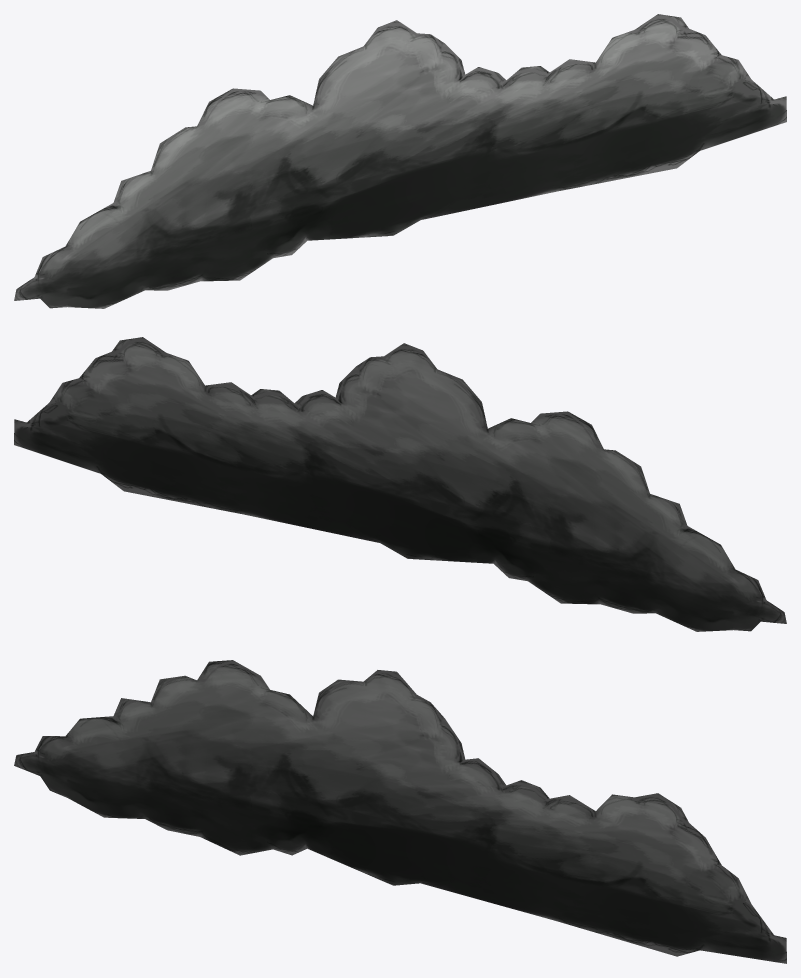
Rendered from Depression_cloud1.fbx.
The picture shows the model from 3 angles, top to bottom: view 1: azimuth 30°, elevation 25°; view 2: azimuth 150°, elevation 25°; view 3: azimuth 330°, elevation 25°; orthographic projection.
Visible parts, largest first — view 1: pCube1; view 2: pCube1; view 3: pCube1.
Boxes of the visible parts, box(x1,y1,x2,y2) form: pCube1: box(14, 14, 786, 308); pCube1: box(14, 337, 786, 631); pCube1: box(14, 660, 786, 963).
Size of the model in its own units: 0.0542 by 0.0149 by 0.
Materials: 1 (1 with a texture image).
